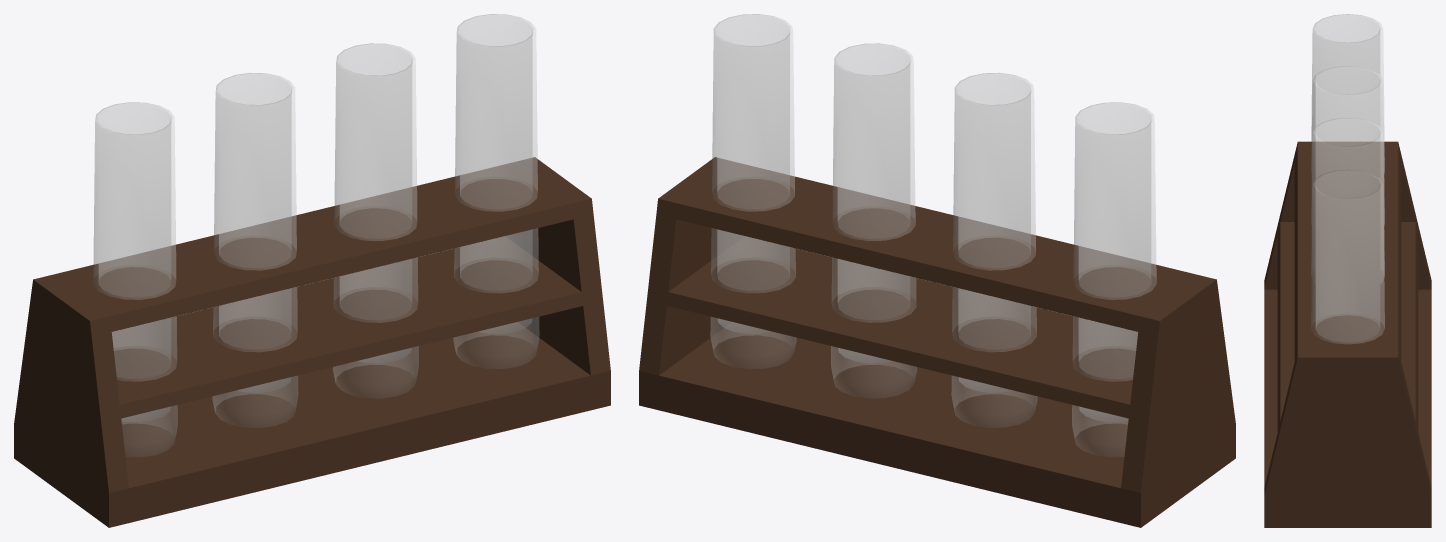
The model's file is TestTube_Holder.gltf.
3 views of the same model, side by side, from view 1: azimuth 30°, elevation 25°; view 2: azimuth 150°, elevation 25°; view 3: azimuth 270°, elevation 25° (orthographic). The views are drawn at different scales.
Parts seen in each view (by area): view 1: TestTubeHolder, Testtubes; view 2: TestTubeHolder, Testtubes; view 3: TestTubeHolder, Testtubes.
Part boxes in pixels (x1,y1,x2,y2): TestTubeHolder: (14, 157, 610, 527); Testtubes: (93, 14, 539, 456); TestTubeHolder: (639, 157, 1235, 527); Testtubes: (710, 14, 1156, 456); TestTubeHolder: (1264, 141, 1431, 527); Testtubes: (1311, 14, 1384, 343).
Size of the model in its own units: 0.5507 by 0.3736 by 0.1805.
